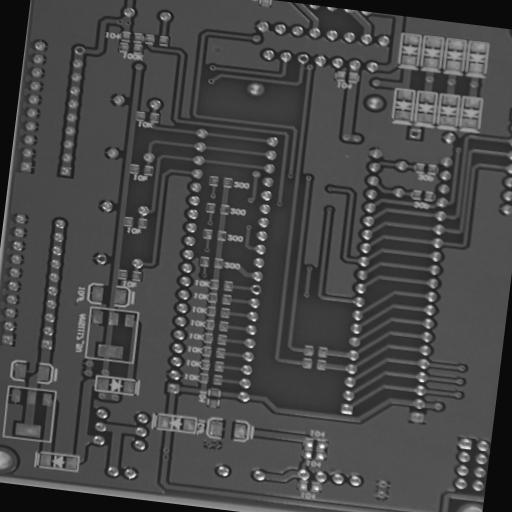missing_hole: (294, 52, 310, 65), (407, 128, 420, 139), (249, 284, 262, 295), (94, 254, 106, 265), (72, 45, 84, 56)
